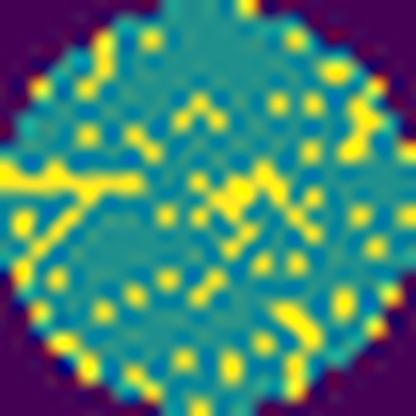Scratch: (0, 154, 149, 288)
